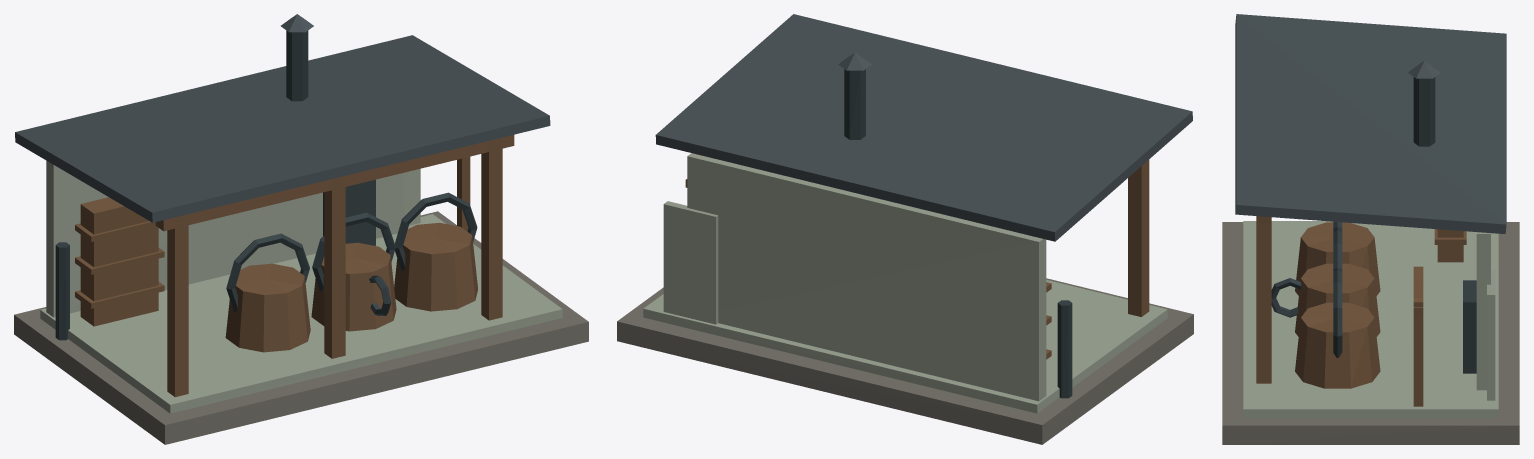
The model's file is Tannery.glb.
The picture shows the model from 3 angles, left to right: view 1: azimuth 30°, elevation 25°; view 2: azimuth 150°, elevation 25°; view 3: azimuth 270°, elevation 25°; orthographic projection. The views are drawn at different scales.
Parts seen in each view (by area): view 1: wind-pump-static-tannery-charcoal-roof, wind-pump-static-tannery-sage-work-wall, wind-pump-static-tannery-weathered-timber, wind-pump-static-tannery-dry-stone-curb, wind-pump-static-tannery-empty-vat-staves, wind-pump-static-tannery-dark-service-iron; view 2: wind-pump-static-tannery-sage-work-wall, wind-pump-static-tannery-charcoal-roof, wind-pump-static-tannery-dry-stone-curb, wind-pump-static-tannery-weathered-timber, wind-pump-static-tannery-dark-service-iron; view 3: wind-pump-static-tannery-charcoal-roof, wind-pump-static-tannery-sage-work-wall, wind-pump-static-tannery-dry-stone-curb, wind-pump-static-tannery-empty-vat-staves, wind-pump-static-tannery-weathered-timber, wind-pump-static-tannery-dark-service-iron.
Part boxes in pixels (x1,y1,x2,y2): wind-pump-static-tannery-charcoal-roof: (15, 14, 550, 222); wind-pump-static-tannery-sage-work-wall: (40, 160, 562, 413); wind-pump-static-tannery-weathered-timber: (75, 135, 514, 397); wind-pump-static-tannery-dry-stone-curb: (14, 211, 588, 444); wind-pump-static-tannery-empty-vat-staves: (225, 222, 477, 352); wind-pump-static-tannery-dark-service-iron: (55, 30, 477, 340); wind-pump-static-tannery-sage-work-wall: (643, 153, 1167, 413); wind-pump-static-tannery-charcoal-roof: (655, 14, 1192, 241); wind-pump-static-tannery-dry-stone-curb: (617, 278, 1193, 444); wind-pump-static-tannery-weathered-timber: (685, 159, 1149, 359); wind-pump-static-tannery-dark-service-iron: (844, 69, 1072, 398); wind-pump-static-tannery-charcoal-roof: (1235, 14, 1506, 234); wind-pump-static-tannery-sage-work-wall: (1243, 221, 1498, 417); wind-pump-static-tannery-dry-stone-curb: (1222, 222, 1519, 444); wind-pump-static-tannery-empty-vat-staves: (1295, 222, 1380, 388); wind-pump-static-tannery-weathered-timber: (1256, 216, 1466, 406); wind-pump-static-tannery-dark-service-iron: (1271, 77, 1476, 373).
Bounding box in the file's own units: 4.11 × 2.72 × 2.5.
